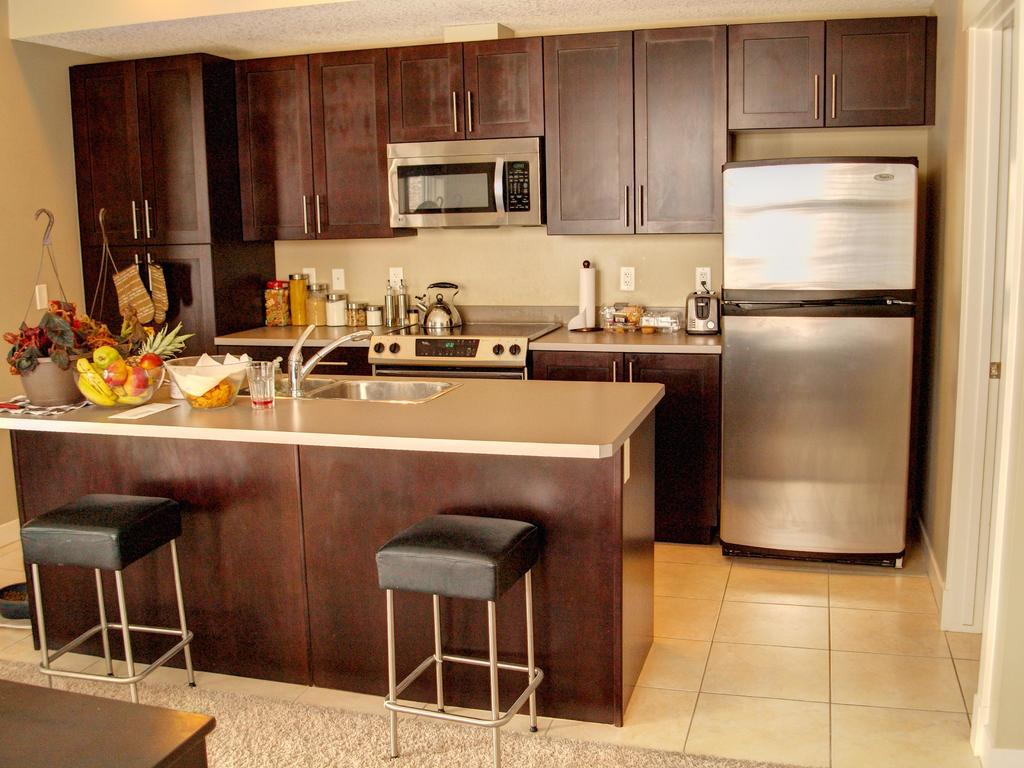Refrigerator: (692, 131, 929, 575)
